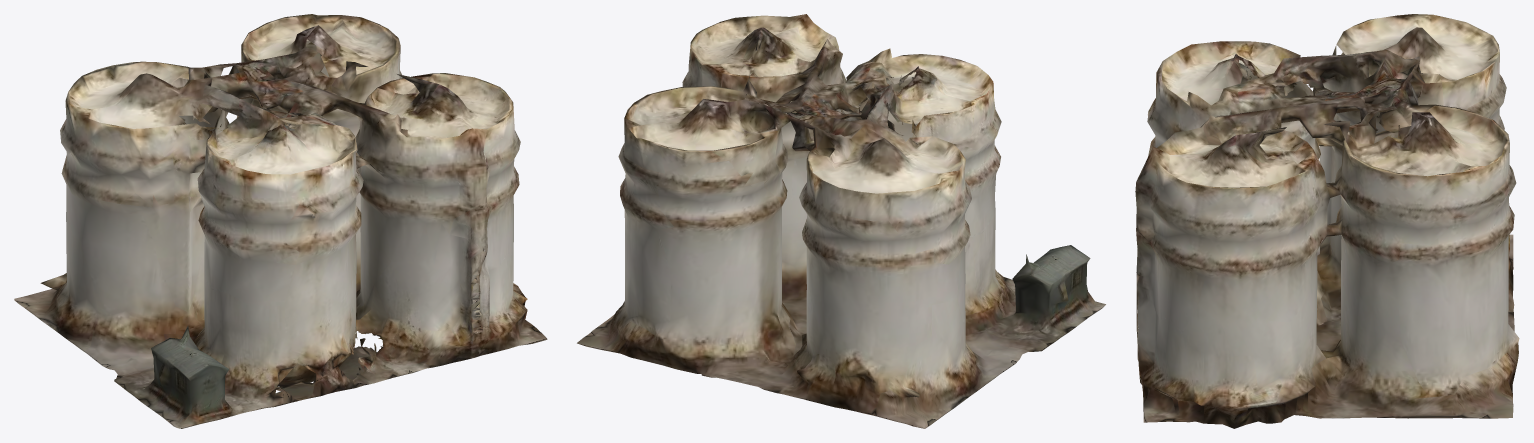
File: fuel.glb
3 renders of one model, left to right at view 1: azimuth 30°, elevation 25°; view 2: azimuth 150°, elevation 25°; view 3: azimuth 270°, elevation 25°, orthographic. The views are drawn at different scales.
Parts seen in each view (by area): view 1: tripo_node_20799e76-865e-4e3b-b279-68f344dc2b97; view 2: tripo_node_20799e76-865e-4e3b-b279-68f344dc2b97; view 3: tripo_node_20799e76-865e-4e3b-b279-68f344dc2b97.
Part boxes in pixels (x1,y1,x2,y2): tripo_node_20799e76-865e-4e3b-b279-68f344dc2b97: (14, 14, 547, 428); tripo_node_20799e76-865e-4e3b-b279-68f344dc2b97: (577, 14, 1105, 428); tripo_node_20799e76-865e-4e3b-b279-68f344dc2b97: (1135, 14, 1519, 428).
Size of the model in its own units: 1 by 0.6063 by 0.8187.
1 material, 1 textured.
